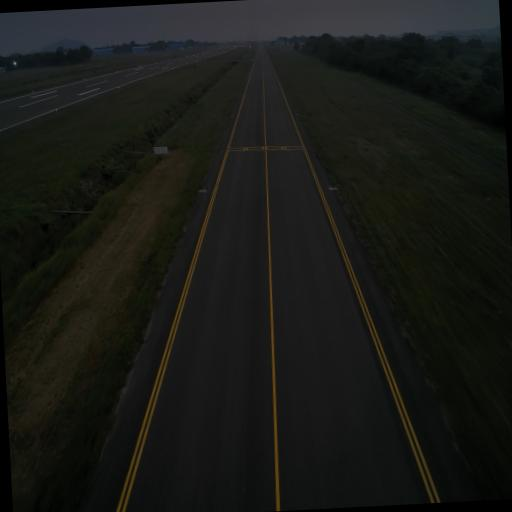on: (203, 186, 206, 190), (330, 184, 332, 188), (296, 110, 298, 114)
